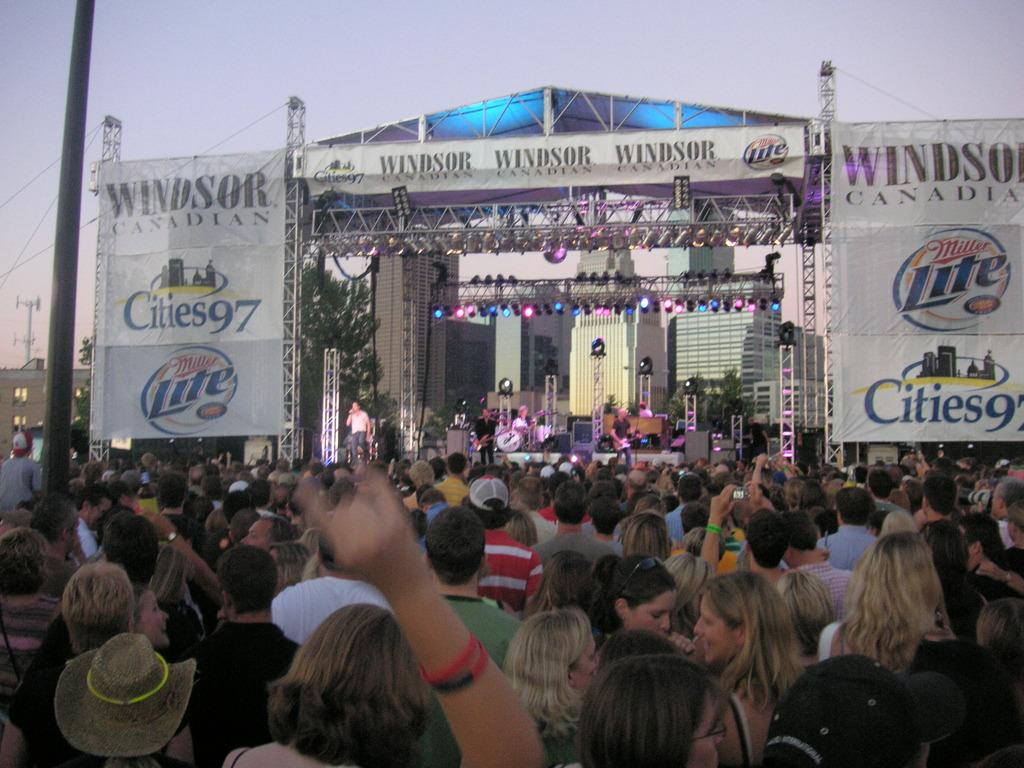Hat: (58, 629, 196, 759), (466, 474, 511, 514), (12, 428, 34, 460)
